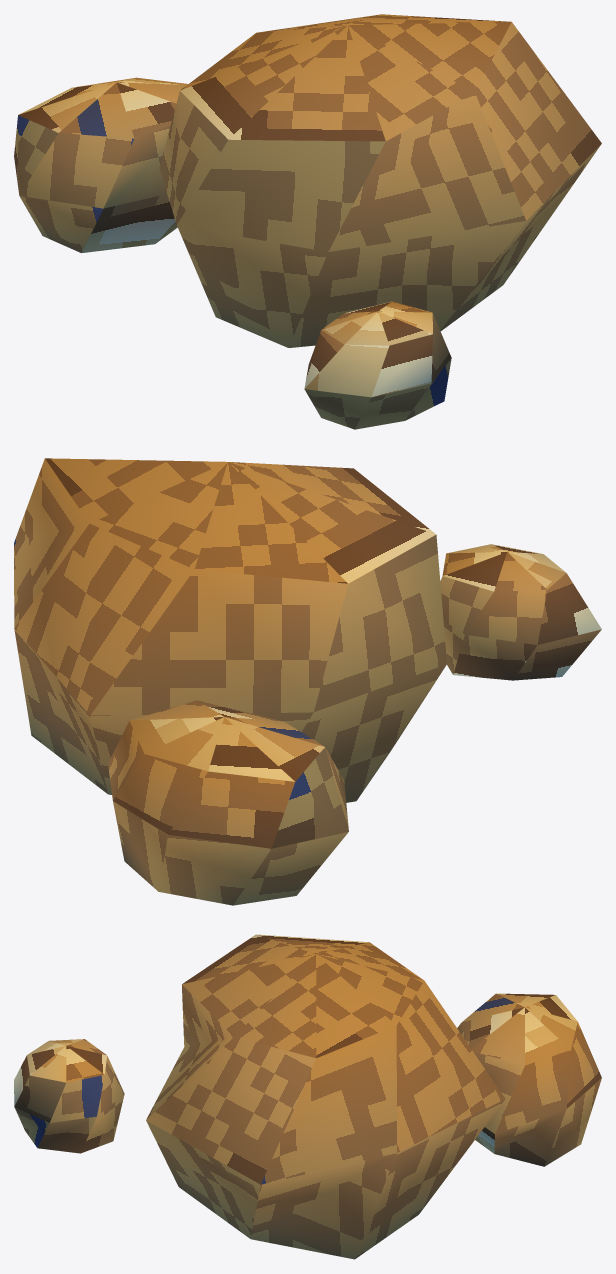
The model's file is wland.boulder__small.glb.
The picture shows the model from 3 angles, top to bottom: view 1: azimuth 30°, elevation 25°; view 2: azimuth 150°, elevation 25°; view 3: azimuth 270°, elevation 25°; orthographic projection. The views are drawn at different scales.
Visible parts, largest first — view 1: kit_rocks; view 2: kit_rocks; view 3: kit_rocks.
Boxes of the visible parts, x1,y1,x2,y2 form: kit_rocks: [14, 14, 601, 429]; kit_rocks: [14, 458, 601, 905]; kit_rocks: [14, 934, 601, 1259].
Size of the model in its own units: 1.27 by 0.7386 by 1.65.
Materials: 1 (1 with a texture image).
